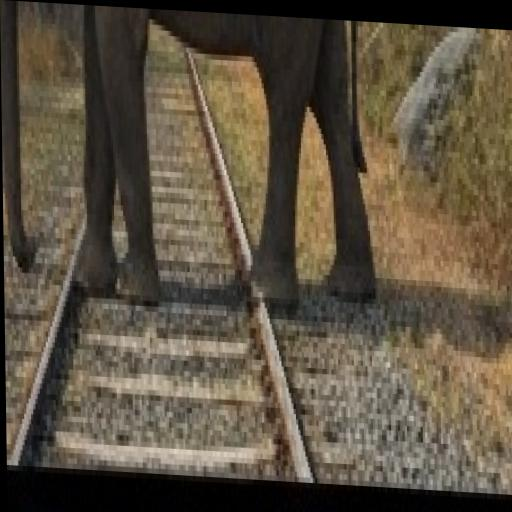elephant: (23, 1, 386, 354)
